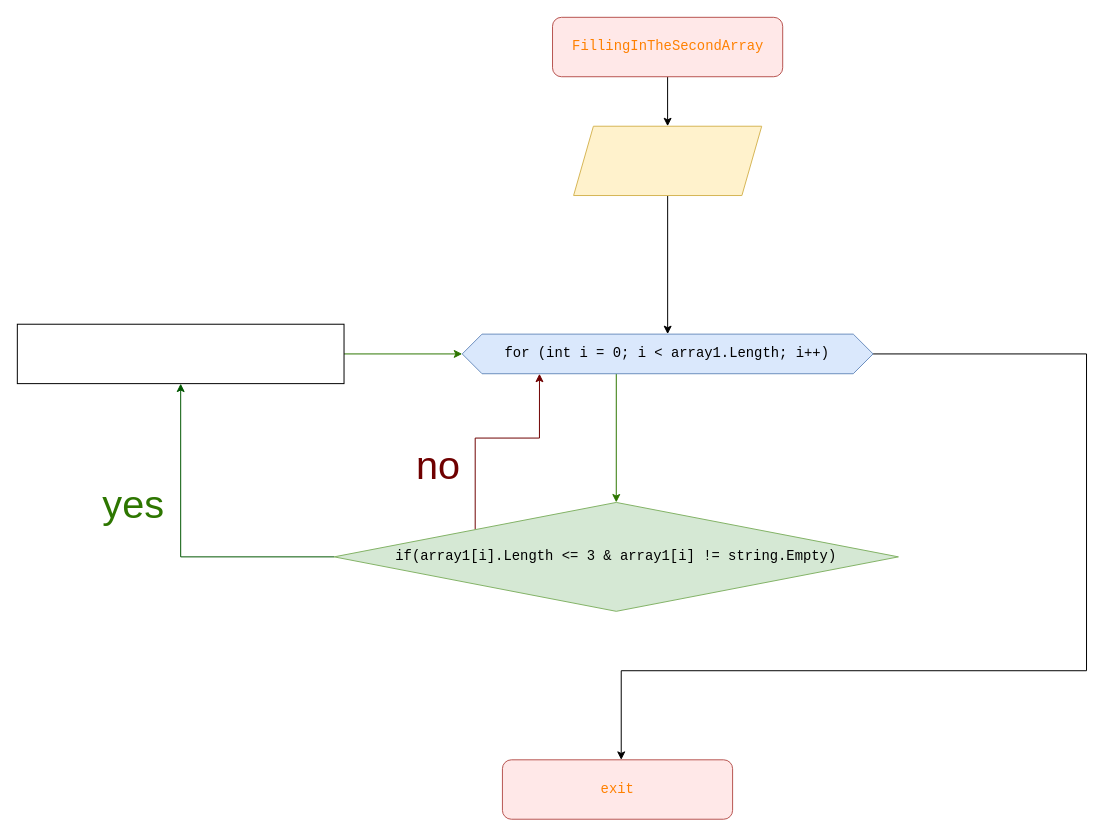
This 1112x837 diagram has some shape labels left out. The shapes that lost their labels are listed below. From the top down, each one's box as (x1, y1, x2, y2) in pixels, then its label:
(573, 125, 762, 196): string[] array1 string [] array2 int count = 0
(16, 323, 344, 384): array2[ count ] = array1 [ i ]; count ++ ;
